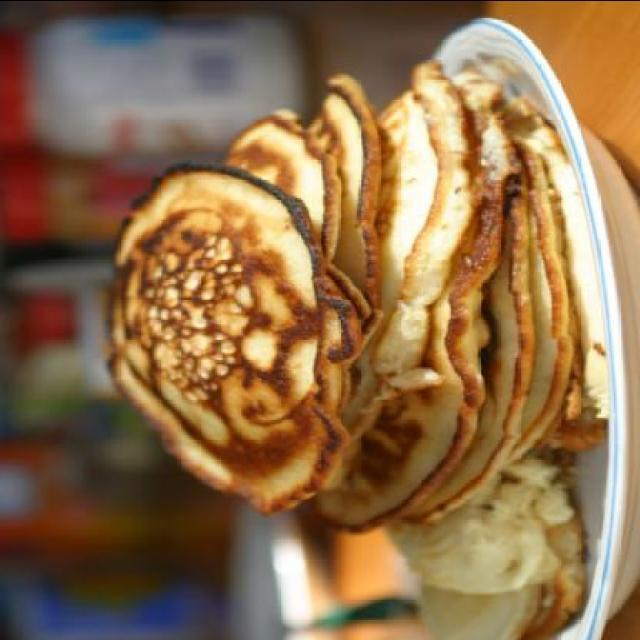Pancake: (218, 61, 592, 533), (98, 166, 350, 517), (377, 471, 585, 640)
